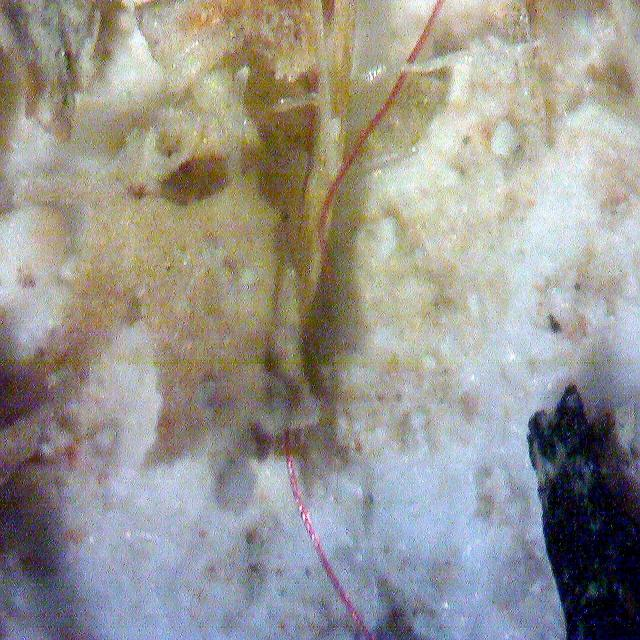microplastic: (317, 0, 446, 288), (284, 431, 376, 640)
